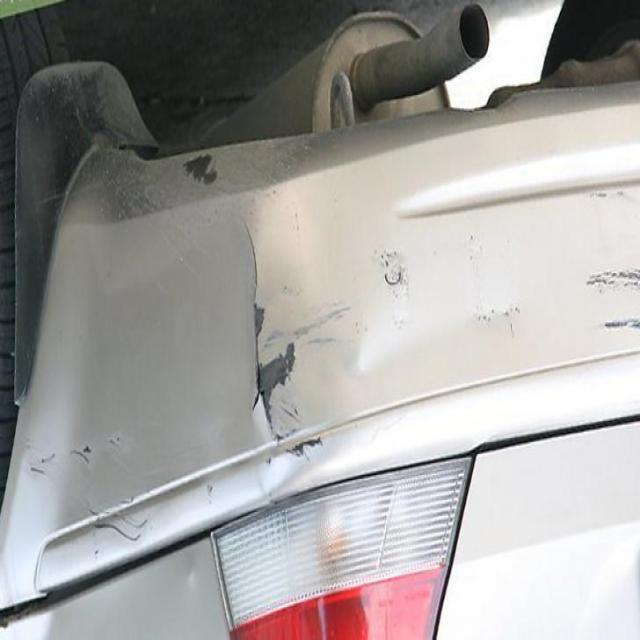scratch: (230, 231, 340, 482), (550, 232, 640, 352), (178, 153, 240, 214)
